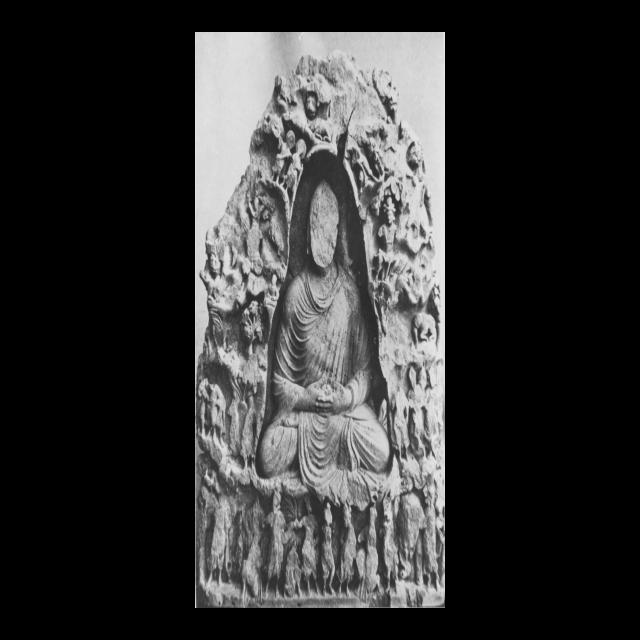buddha-sitting: (258, 180, 390, 511)
